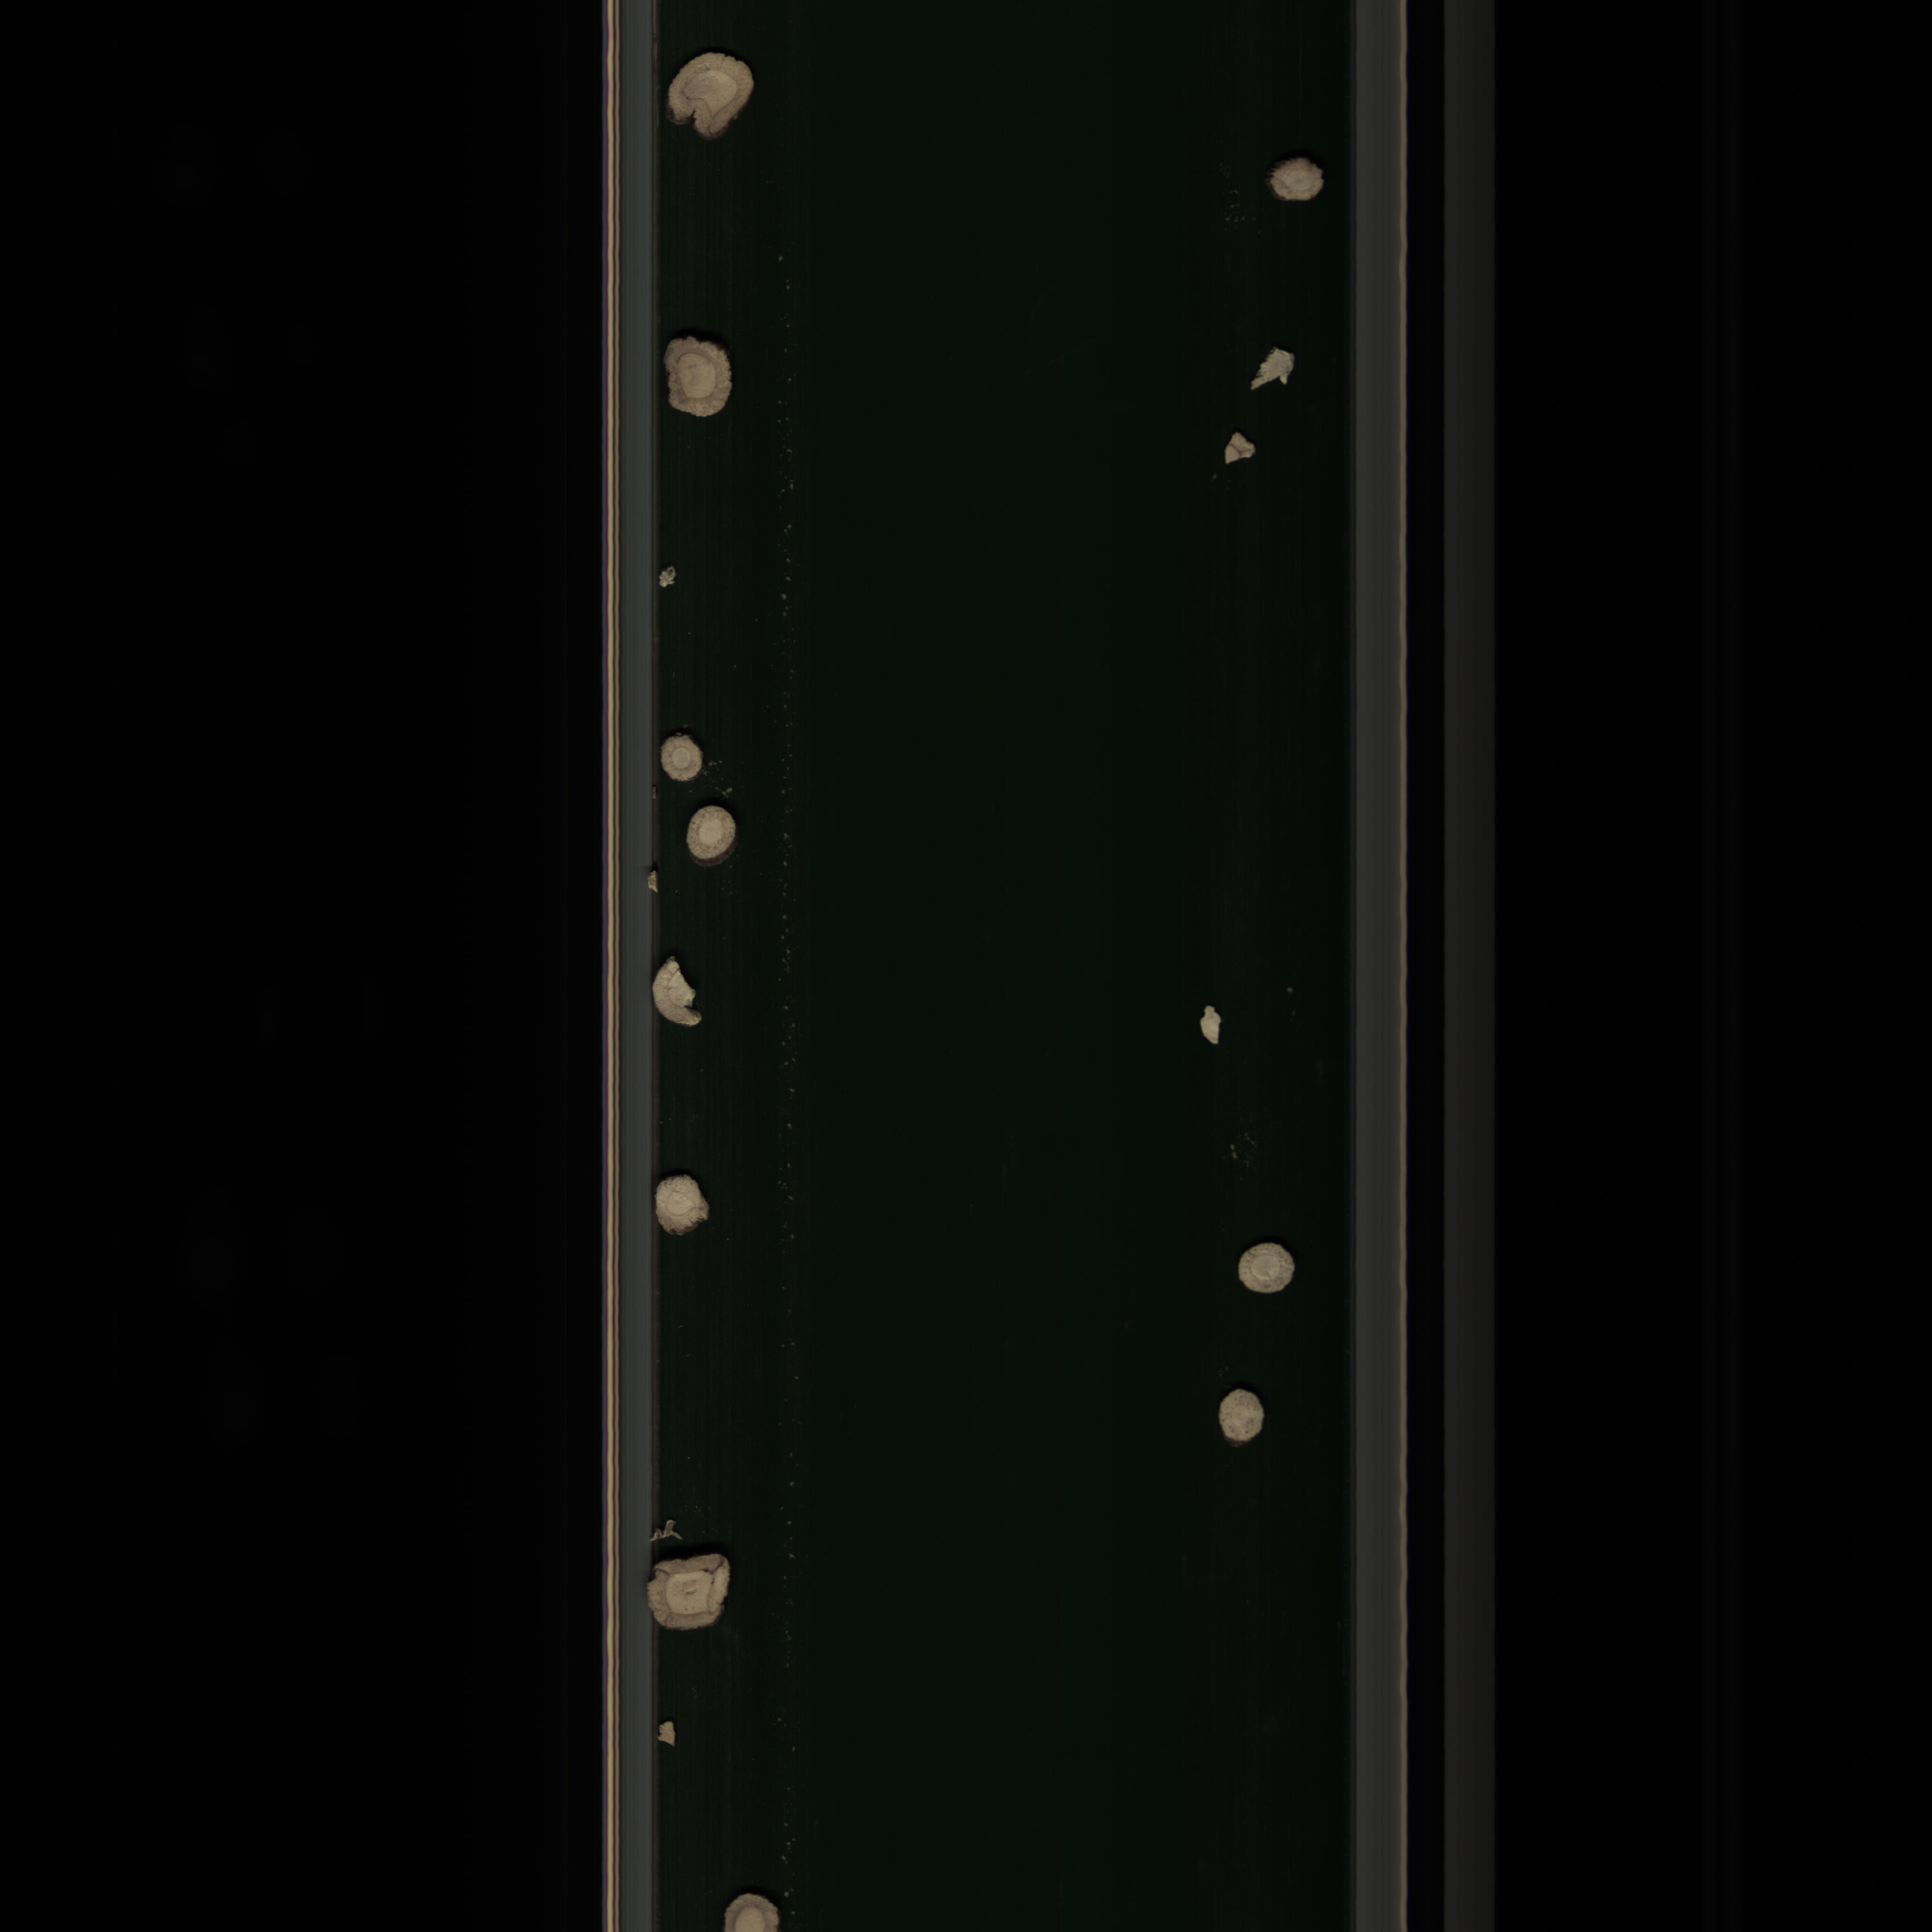debris: (649, 950, 708, 1042), (1244, 336, 1299, 398), (1191, 1000, 1226, 1053), (1219, 426, 1258, 471)
distortion: (663, 46, 759, 147)
